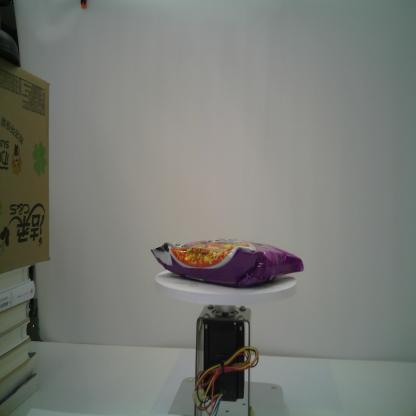Instant Noodles: (151, 237, 305, 289)
